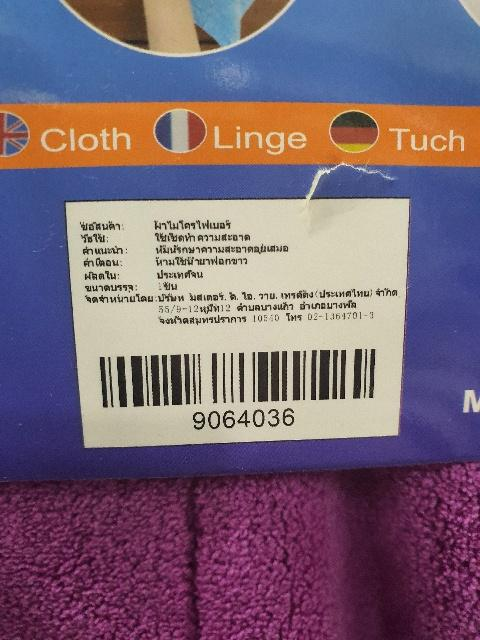Barcode: (91, 341, 393, 438)
